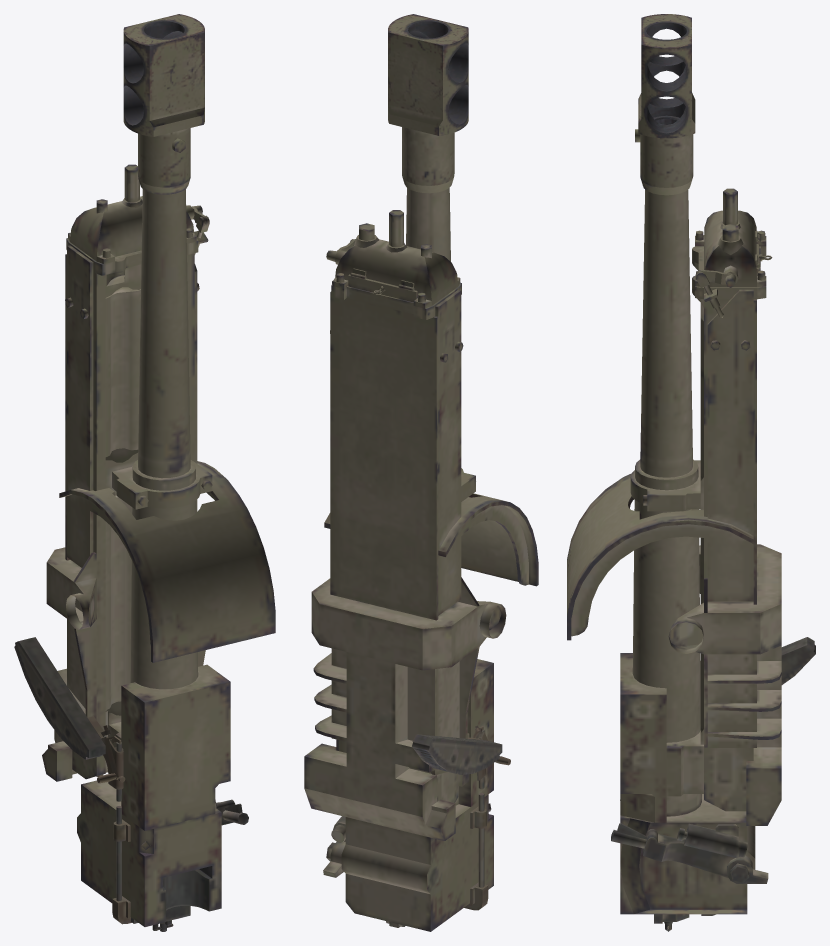
File: Gun_01.glb
3 views of the same model, side by side, from view 1: azimuth 30°, elevation 25°; view 2: azimuth 150°, elevation 25°; view 3: azimuth 270°, elevation 25° (orthographic).
Visible parts, largest first — view 1: set_0_group_0; view 2: set_0_group_0; view 3: set_0_group_0.
Boxes of the visible parts, x1,y1,x2,y2 form: set_0_group_0: [14, 14, 275, 931]; set_0_group_0: [304, 14, 538, 931]; set_0_group_0: [567, 14, 815, 931].
Bounding box in the file's own units: 0.5201 × 2.81 × 0.7057.
Materials: 1 (1 with a texture image).
